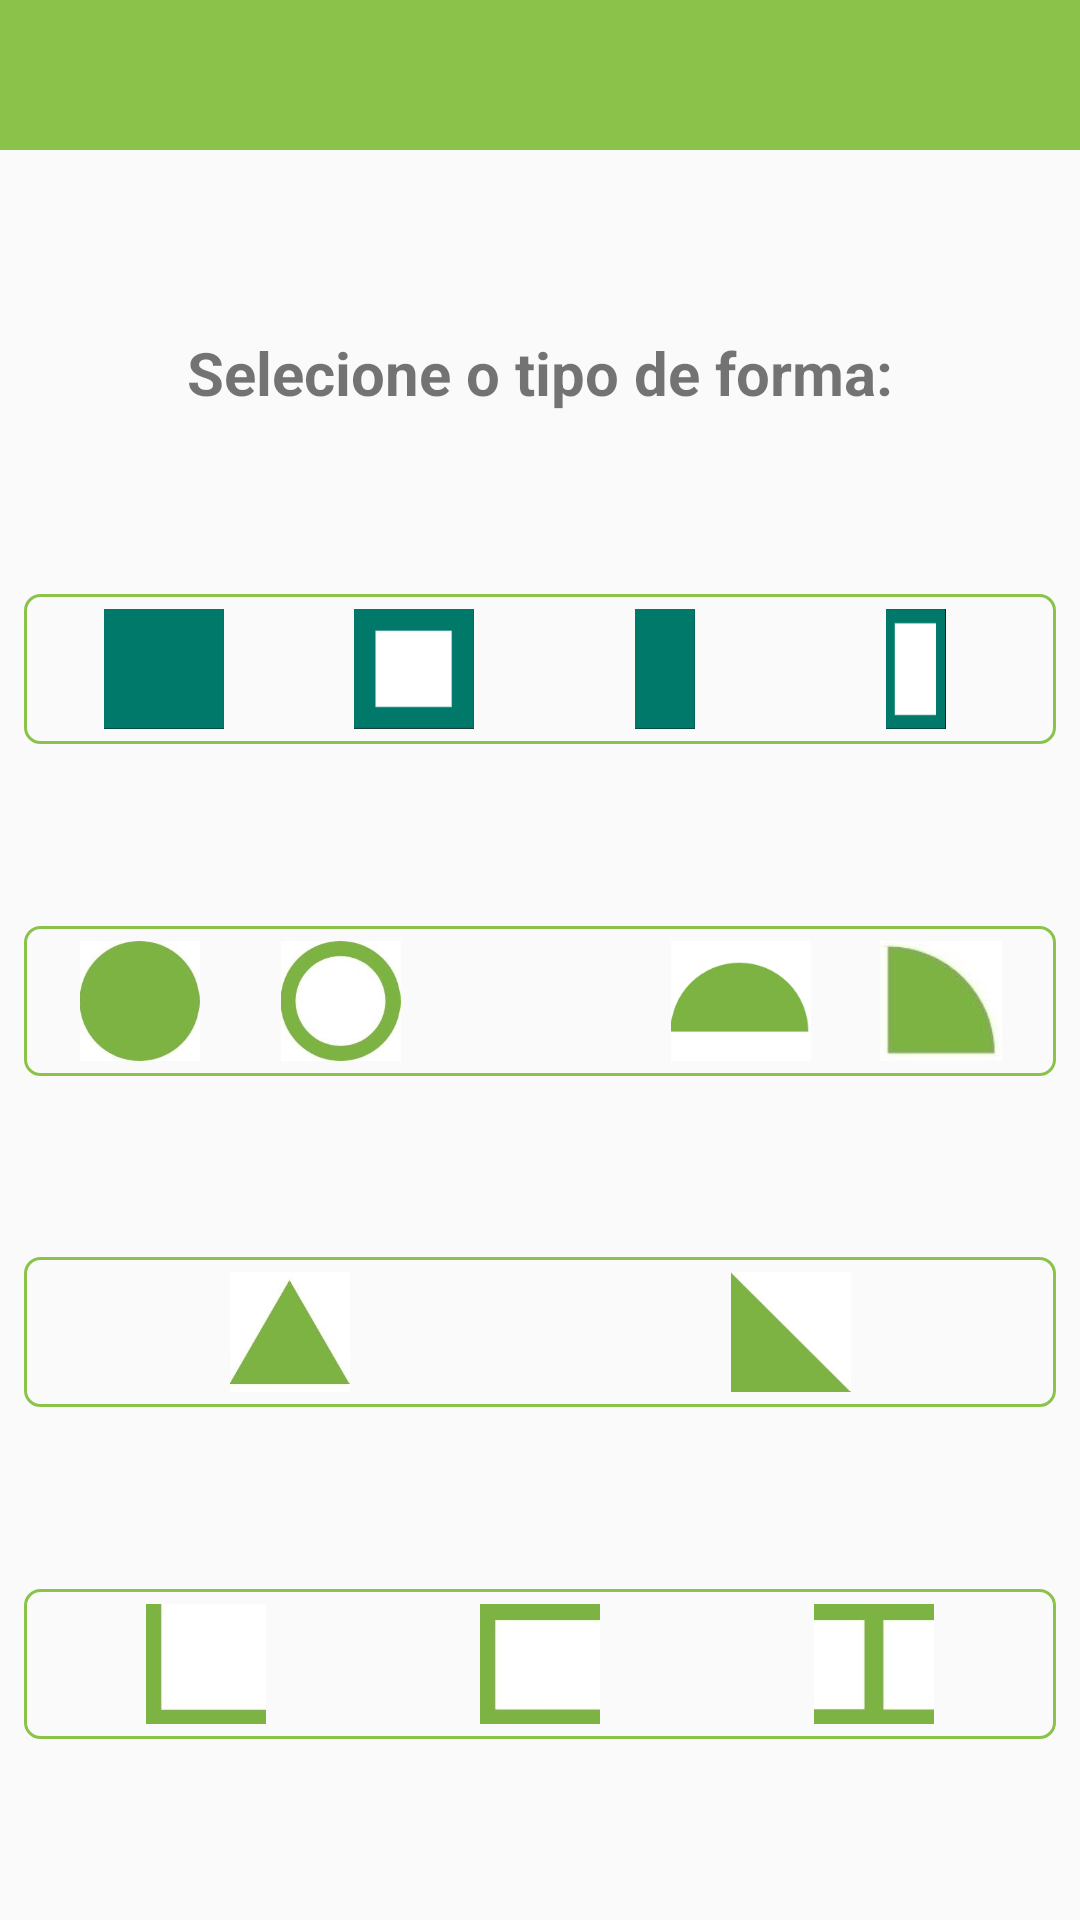

Named icons in this screenshot (1080x1920) and their bounding boxes, (x1, y1, x2, y2):
circulo: (80, 941, 200, 1061)
circulo vazado: (281, 941, 401, 1061)
quadrado: (104, 609, 224, 729)
quadrado vazado: (354, 609, 474, 729)
quadrante: (886, 945, 996, 1055)
retangulo: (635, 609, 695, 729)
retangulo vazado: (886, 609, 946, 729)
semicirculo: (671, 962, 809, 1032)
triangulo isoceles: (230, 1280, 350, 1385)
triangulo retangulo: (731, 1272, 851, 1392)
